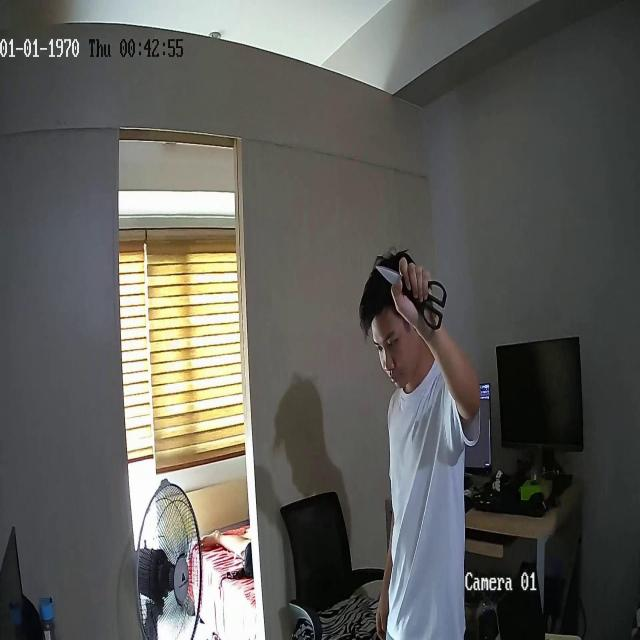scissor: (376, 266, 447, 332)
